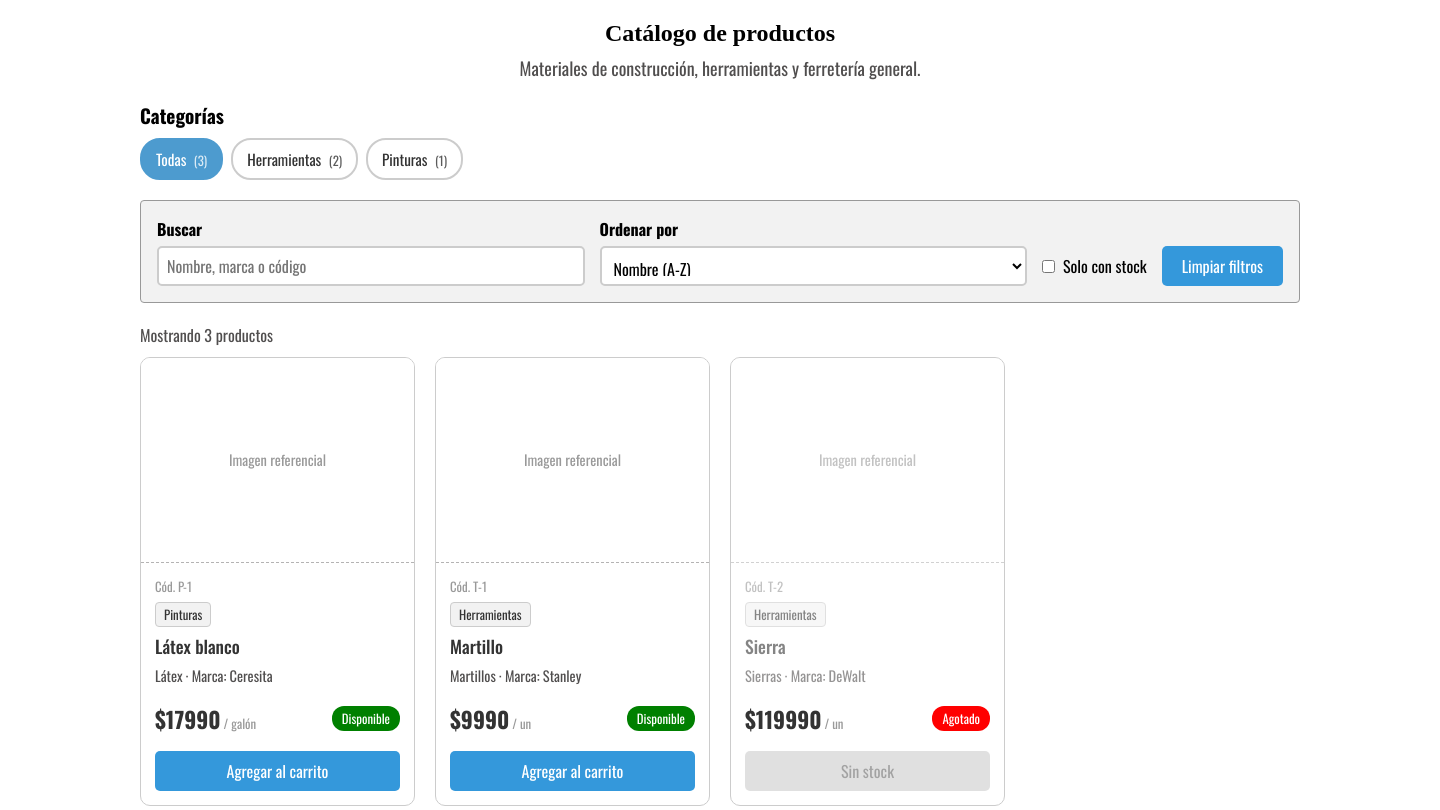
Catalogo › muestra un mensaje cuando no hay resultados
The width and height of the screenshot is (1440, 810).
Step 1. Type "zzzz" into the search field labelled "Buscar" → (371, 266), box [157, 246, 584, 286]
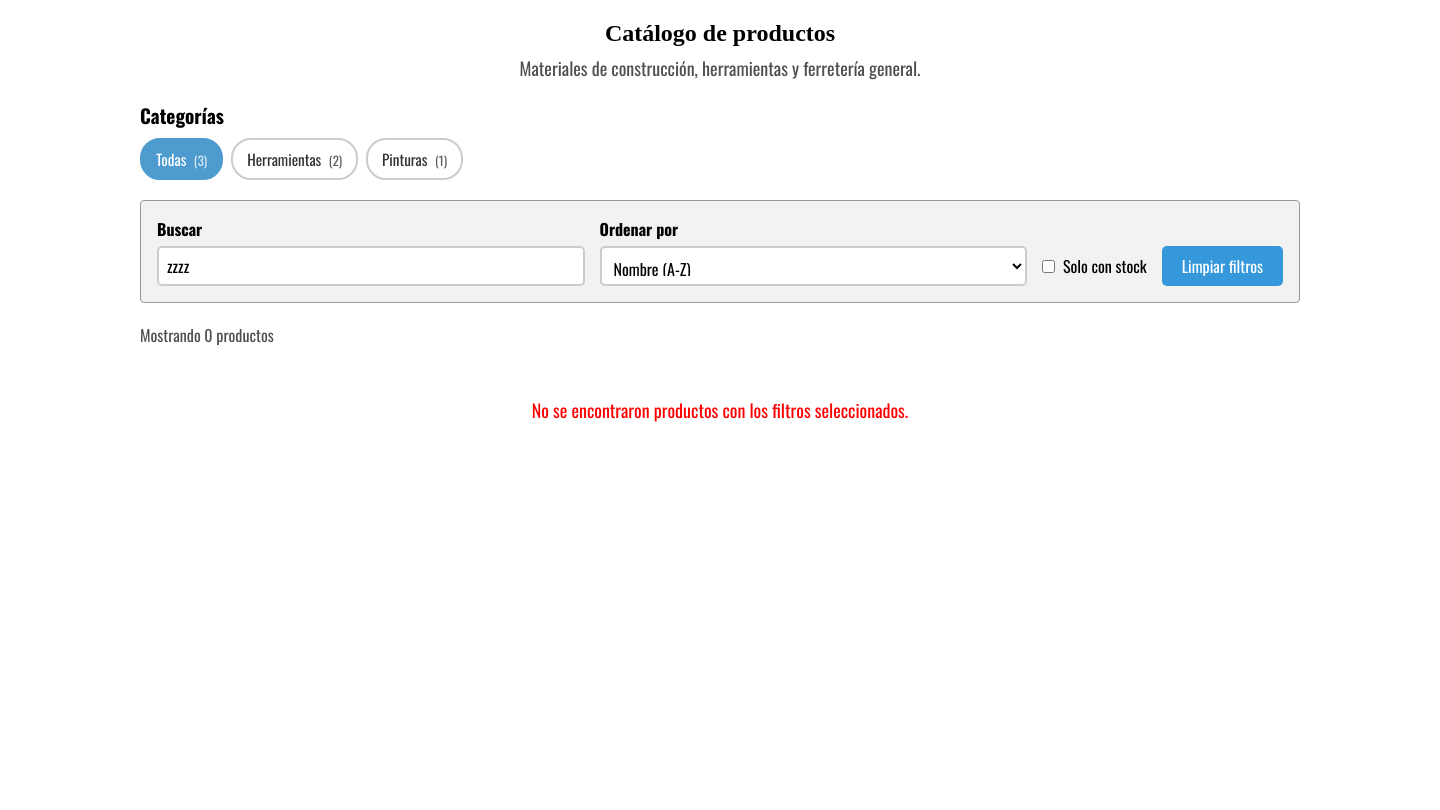
Result: the text "No se encontraron productos con los filtros seleccionados." is shown at [532, 397, 908, 423]
